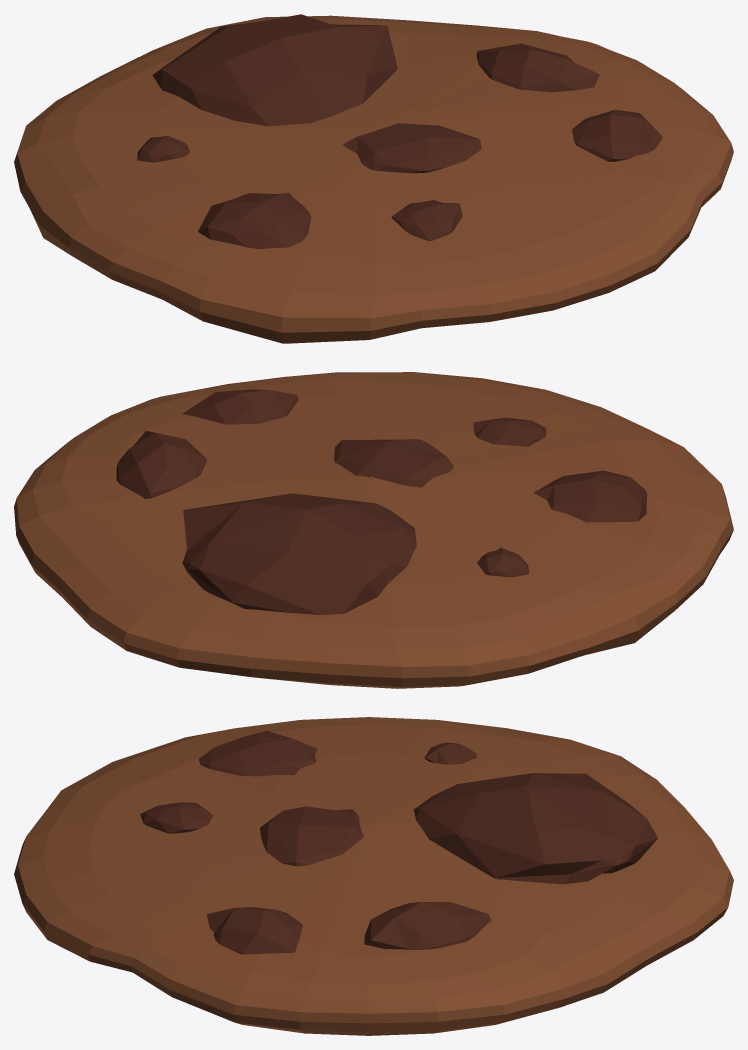
Rendered from cookie.glb.
3 views of the same model, one above another, from view 1: azimuth 30°, elevation 25°; view 2: azimuth 150°, elevation 25°; view 3: azimuth 270°, elevation 25° (orthographic).
Parts seen in each view (by area): view 1: Sphere, Icosphere.001, Icosphere.002, Icosphere, Icosphere.005, Icosphere.006, Icosphere.003, Icosphere.007; view 2: Sphere, Icosphere.001, Icosphere, Icosphere.002, Icosphere.005, Icosphere.006, Icosphere.003, Icosphere.007; view 3: Sphere, Icosphere.001, Icosphere.002, Icosphere.005, Icosphere, Icosphere.006, Icosphere.003, Icosphere.007.
Part boxes in pixels (left/top/right/bottom): Sphere: left=14, top=15, right=733, bottom=343; Icosphere.001: left=152, top=14, right=397, bottom=126; Icosphere.002: left=342, top=123, right=481, bottom=173; Icosphere: left=197, top=192, right=311, bottom=249; Icosphere.005: left=476, top=43, right=599, bottom=92; Icosphere.006: left=572, top=109, right=662, bottom=161; Icosphere.003: left=391, top=200, right=462, bottom=240; Icosphere.007: left=137, top=136, right=189, bottom=162; Sphere: left=14, top=372, right=733, bottom=688; Icosphere.001: left=182, top=493, right=416, bottom=614; Icosphere: left=533, top=470, right=647, bottom=522; Icosphere.002: left=334, top=439, right=453, bottom=487; Icosphere.005: left=116, top=431, right=206, bottom=498; Icosphere.006: left=182, top=389, right=298, bottom=424; Icosphere.003: left=473, top=417, right=546, bottom=446; Icosphere.007: left=477, top=548, right=528, bottom=577; Sphere: left=14, top=717, right=733, bottom=1035; Icosphere.001: left=413, top=773, right=657, bottom=884; Icosphere.002: left=260, top=806, right=363, bottom=866; Icosphere.005: left=364, top=902, right=491, bottom=949; Icosphere: left=198, top=730, right=316, bottom=776; Icosphere.006: left=207, top=907, right=302, bottom=954; Icosphere.003: left=140, top=802, right=213, bottom=833; Icosphere.007: left=424, top=742, right=477, bottom=764.
Size of the model in its own units: 7.69 by 1.48 by 7.83.
